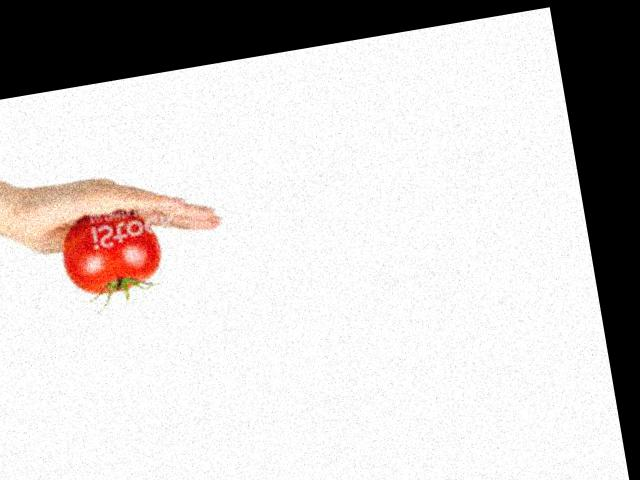tomato: (57, 206, 165, 301)
